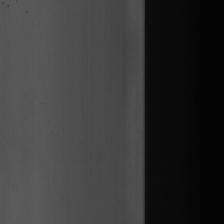inclusion: (48, 116, 57, 135), (23, 7, 30, 20), (7, 1, 12, 10)
